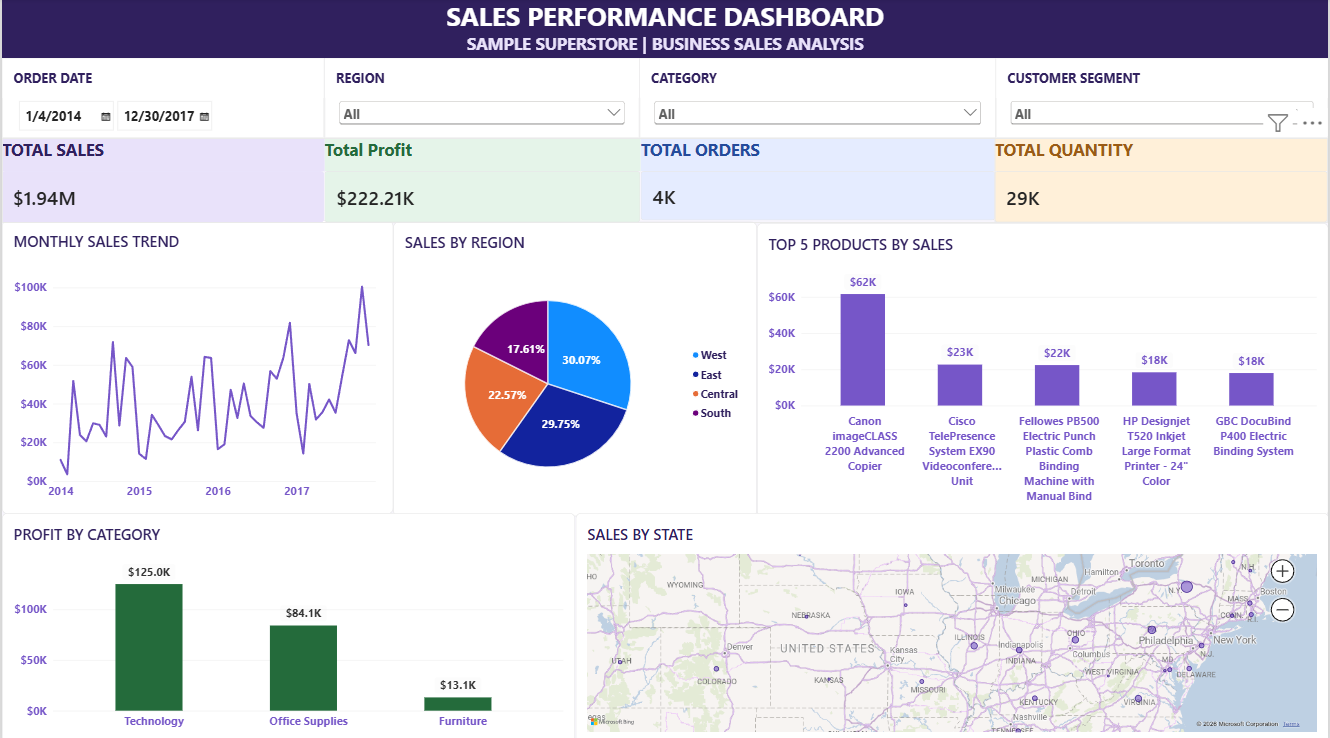

Layout of this report page (visuals, bound fields, positions):
{"tool":"powerbi","page":{"name":"Page 1","canvas":[1920,1080],"ordinal":0},"visuals":[{"type":"cardVisual","title":"TOTAL SALES","fields":{"Data":["Sample - Superstore.Total Sales"]},"box":[0,202.4,466.8,122.2],"z":0,"group":"g2"},{"type":"lineChart","title":"MONTHLY SALES TREND","fields":{"Category":["Sample - Superstore.Order Date.Variation.Date Hierarchy.Year","Sample - Superstore.Order Date.Variation.Date Hierarchy.Month"],"Y":["Sample - Superstore.Total Sales"]},"box":[0,321.4,566.8,425.1],"z":0},{"type":"cardVisual","title":"Total Profit","fields":{"Data":["Sample - Superstore.Total Profit"]},"box":[466.8,202.4,457.4,122.2],"z":1000,"group":"g2"},{"type":"pieChart","title":"SALES BY REGION","fields":{"Category":["Sample - Superstore.Region"],"Y":["Sample - Superstore.Total Sales"]},"box":[566.8,323.9,526,426],"z":1000},{"type":"cardVisual","title":"TOTAL ORDERS","fields":{"Data":["Sample - Superstore.Total Orders"]},"box":[924.3,202.4,513.8,119.1],"z":2000,"group":"g2"},{"type":"clusteredColumnChart","title":"TOP 5 PRODUCTS BY SALES","fields":{"Category":["Sample - Superstore.Product Name"],"Y":["Sample - Superstore.Total Sales"]},"box":[1093.1,326.4,827.4,425.1],"z":2000},{"type":"cardVisual","title":"TOTAL QUANTITY","fields":{"Data":["Sample - Superstore.Total Quantity"]},"box":[1437.5,202.4,482.5,122.2],"z":3000,"group":"g2"},{"type":"map","title":"SALES BY STATE","fields":{"Category":["Sample - Superstore.State"],"Size":["Sample - Superstore.Total Sales"]},"box":[829.9,746.4,1090.6,334],"z":3000},{"type":"clusteredColumnChart","title":"PROFIT BY CATEGORY","fields":{"Category":["Sample - Superstore.Category"],"Y":["Sample - Superstore.Total Profit"]},"box":[0,746.4,829.9,334],"z":4000},{"type":"textbox","box":[0,0,1920.1,86.9],"z":5000},{"type":"slicer","title":"ORDER DATE","fields":{"Values":["Sample - Superstore.Order Date"]},"box":[0,86.2,466,116.1],"z":5000,"group":"g1"},{"type":"group","id":"g1","title":"Group 2","box":[0,86,1920.5,116.4],"z":6000},{"type":"slicer","title":"REGION","fields":{"Values":["Sample - Superstore.Region"]},"box":[466.4,86.1,456.1,116.4],"z":6000,"group":"g1"},{"type":"slicer","title":"CATEGORY","fields":{"Values":["Sample - Superstore.Category"]},"box":[922.8,86,515.9,116.4],"z":7000,"group":"g1"},{"type":"group","id":"g2","title":"Group 1","box":[0,202.4,1920.5,124],"z":7000},{"type":"slicer","title":"CUSTOMER SEGMENT","fields":{"Values":["Sample - Superstore.Segment"]},"box":[1439,86.1,481.5,116.4],"z":8000,"group":"g1"}]}

Visuals, with their boxes in screenshot pixels (x1, y1, x2, y2), scaled from the page's 1920x1080 canvas onto the 1330x738 screenshot:
"TOTAL SALES" cardVisual: {"x1": 0, "y1": 138, "x2": 323, "y2": 222}
"MONTHLY SALES TREND" lineChart: {"x1": 0, "y1": 220, "x2": 393, "y2": 510}
"Total Profit" cardVisual: {"x1": 323, "y1": 138, "x2": 640, "y2": 222}
"SALES BY REGION" pieChart: {"x1": 393, "y1": 221, "x2": 757, "y2": 512}
"TOTAL ORDERS" cardVisual: {"x1": 640, "y1": 138, "x2": 996, "y2": 220}
"TOP 5 PRODUCTS BY SALES" clusteredColumnChart: {"x1": 757, "y1": 223, "x2": 1329, "y2": 514}
"TOTAL QUANTITY" cardVisual: {"x1": 996, "y1": 138, "x2": 1329, "y2": 222}
"SALES BY STATE" map: {"x1": 575, "y1": 510, "x2": 1329, "y2": 737}
"PROFIT BY CATEGORY" clusteredColumnChart: {"x1": 0, "y1": 510, "x2": 575, "y2": 737}
textbox: {"x1": 0, "y1": 0, "x2": 1329, "y2": 59}
"ORDER DATE" slicer: {"x1": 0, "y1": 59, "x2": 323, "y2": 138}
"Group 2" group: {"x1": 0, "y1": 59, "x2": 1329, "y2": 138}
"REGION" slicer: {"x1": 323, "y1": 59, "x2": 639, "y2": 138}
"CATEGORY" slicer: {"x1": 639, "y1": 59, "x2": 997, "y2": 138}
"Group 1" group: {"x1": 0, "y1": 138, "x2": 1329, "y2": 223}
"CUSTOMER SEGMENT" slicer: {"x1": 997, "y1": 59, "x2": 1329, "y2": 138}
